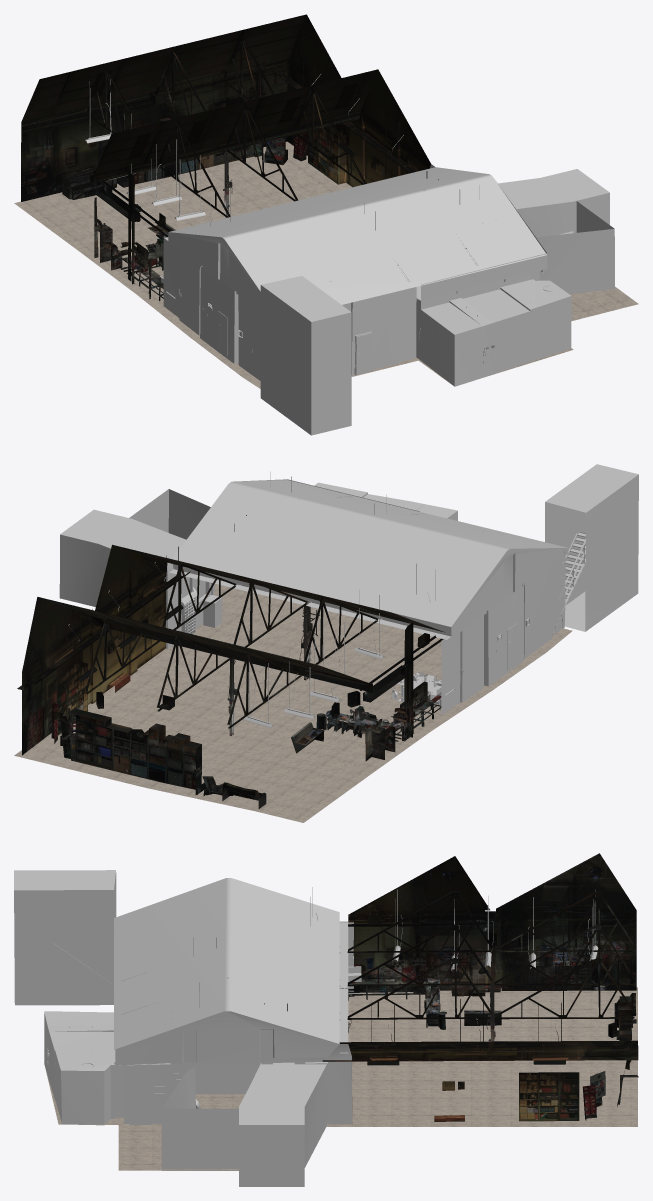
The model's file is garage.obj.
The picture shows the model from 3 angles, top to bottom: view 1: azimuth 30°, elevation 25°; view 2: azimuth 150°, elevation 25°; view 3: azimuth 270°, elevation 25°; orthographic projection. The views are drawn at different scales.
Visible parts, largest first — view 1: Object_5, Object_6, Object_2; view 2: Object_5, Object_6, Object_2, Object_4; view 3: Object_5, Object_6, Object_2.
Boxes of the visible parts, x1,y1,x2,y2 form: Object_5: [85, 74, 614, 435]; Object_6: [21, 14, 438, 300]; Object_2: [14, 141, 638, 388]; Object_5: [59, 464, 638, 728]; Object_6: [17, 515, 444, 808]; Object_2: [14, 583, 572, 822]; Object_4: [227, 602, 319, 735]; Object_5: [14, 870, 598, 1186]; Object_6: [264, 853, 638, 1121]; Object_2: [45, 987, 637, 1170].
Bounding box in the file's own units: 1.91 × 0.7756 × 2.5.
